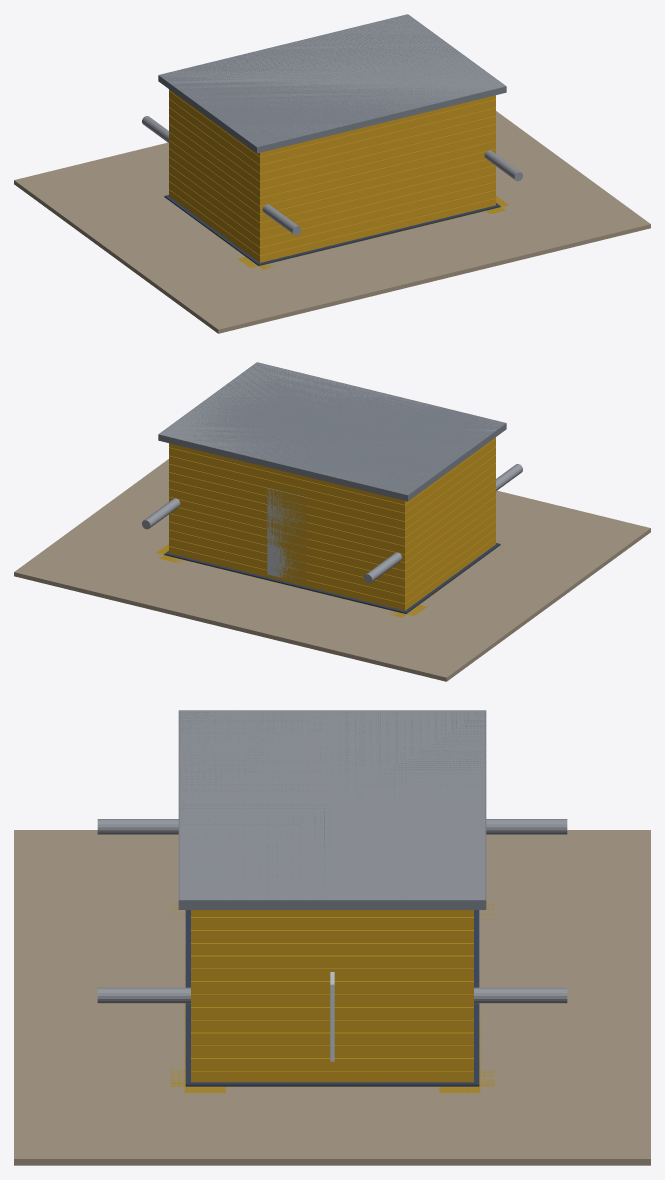
Rendered from stage_08_bands.glb.
3 renders of one model, top to bottom at view 1: azimuth 30°, elevation 25°; view 2: azimuth 150°, elevation 25°; view 3: azimuth 270°, elevation 25°, orthographic. The views are drawn at different scales.
Visible parts, largest first — view 1: world; view 2: world; view 3: world.
Part boxes in pixels (<box>): world: <box>14,14,650,333</box>; world: <box>14,362,650,681</box>; world: <box>14,710,650,1165</box>.
Bounding box in the file's own units: 11 × 3.75 × 9.
